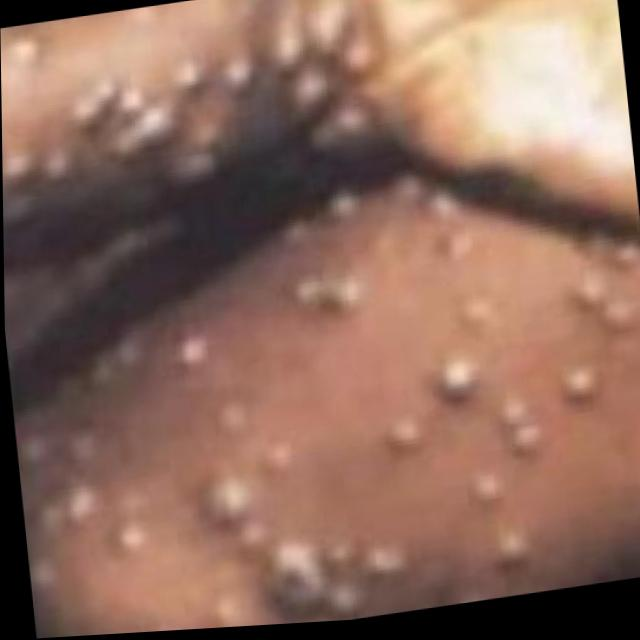Eczema: (3, 139, 640, 640), (0, 0, 380, 232)
